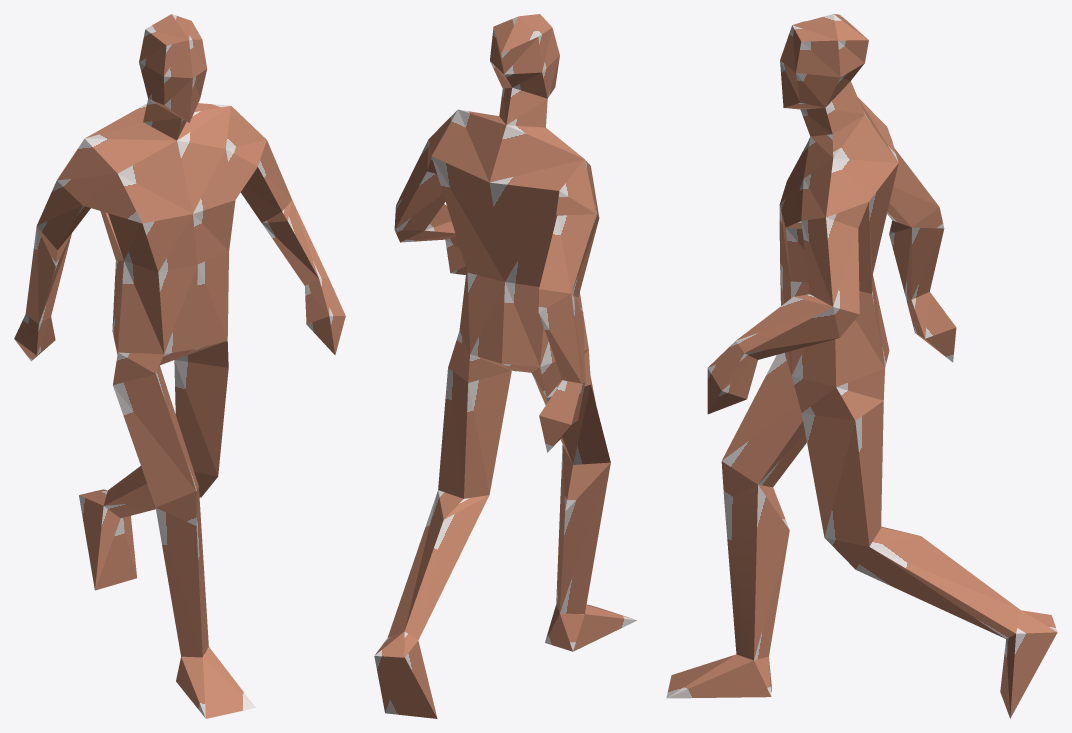
3 renders of one model, left to right at view 1: azimuth 30°, elevation 25°; view 2: azimuth 150°, elevation 25°; view 3: azimuth 270°, elevation 25°, orthographic. The views are drawn at different scales.
Parts seen in each view (by area): view 1: Default; view 2: Default; view 3: Default.
Boxes of the visible parts, bbox=[...] form: Default: bbox=[14, 14, 345, 718]; Default: bbox=[374, 14, 636, 718]; Default: bbox=[666, 14, 1057, 718].
Bounding box in the file's own units: 0.7956 × 2.15 × 1.11.
